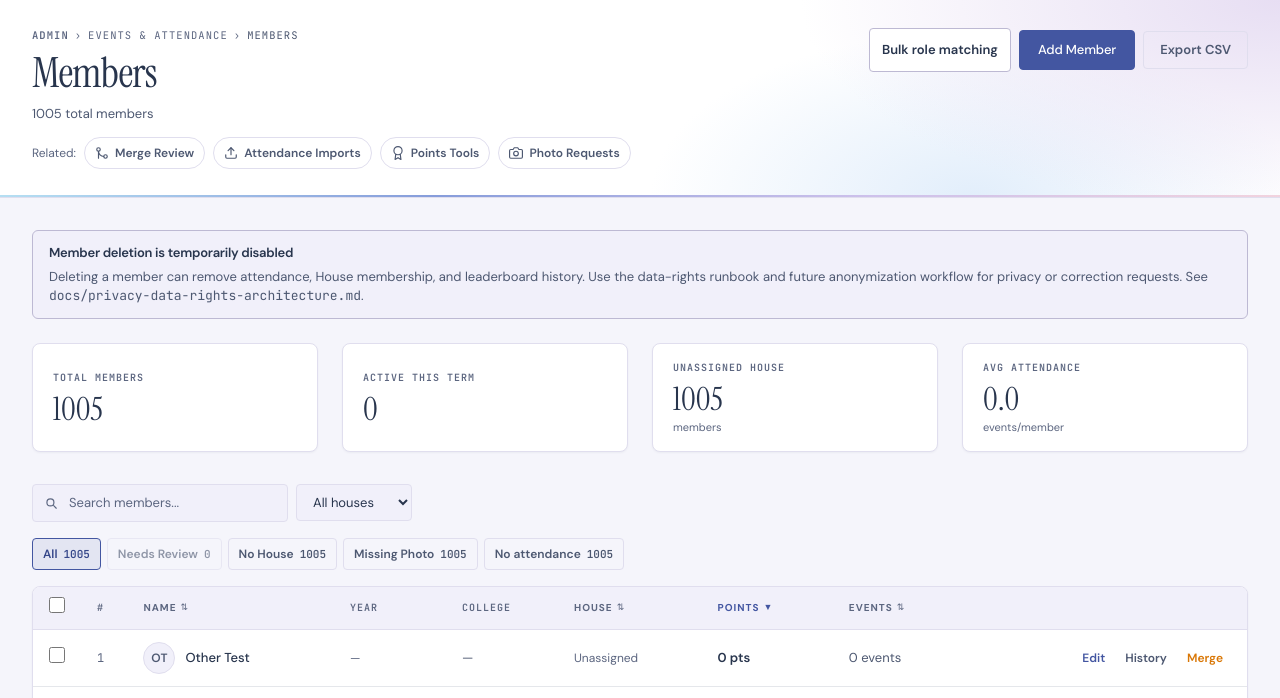
Scenario: finds Matthew Van beyond Supabase's first 1,000 members
Expected: the text "1005 total members" is shown, [32, 105, 154, 122]
Type "Matthew Van" into the search field with placeholder "Search members...". click: (160, 503)
box: [32, 484, 288, 522]
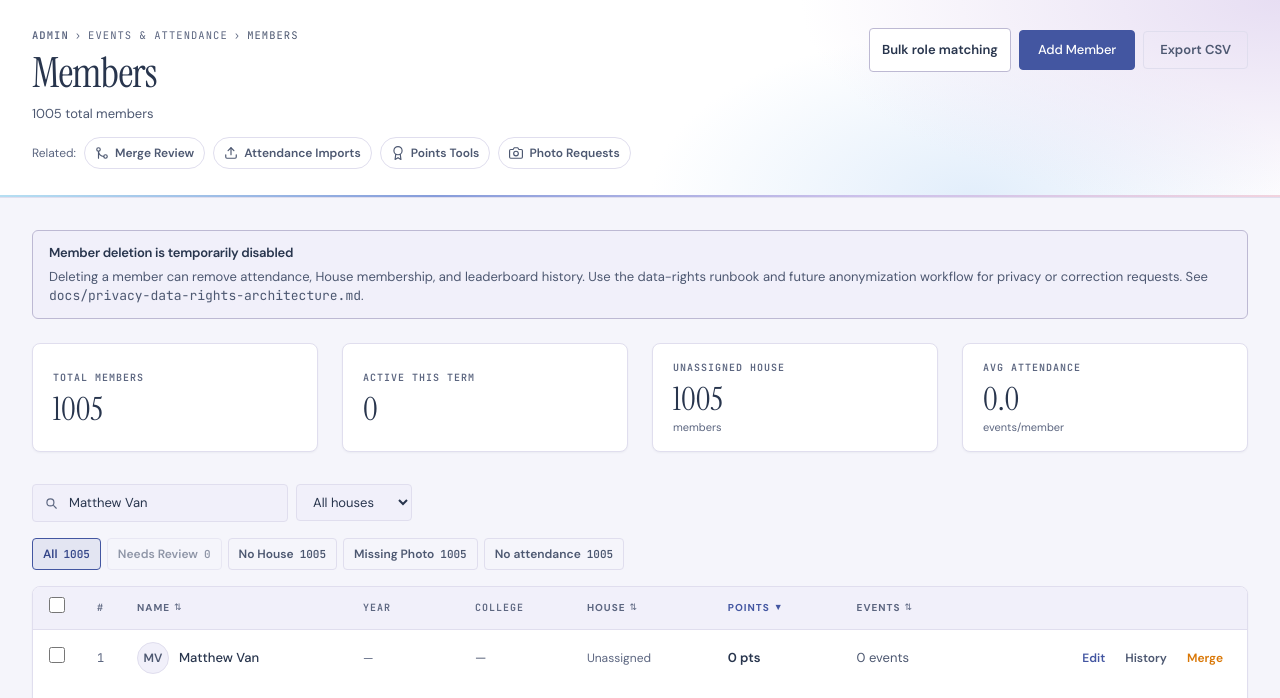
Now the text "Matthew Van" is shown, box [179, 648, 259, 668]
